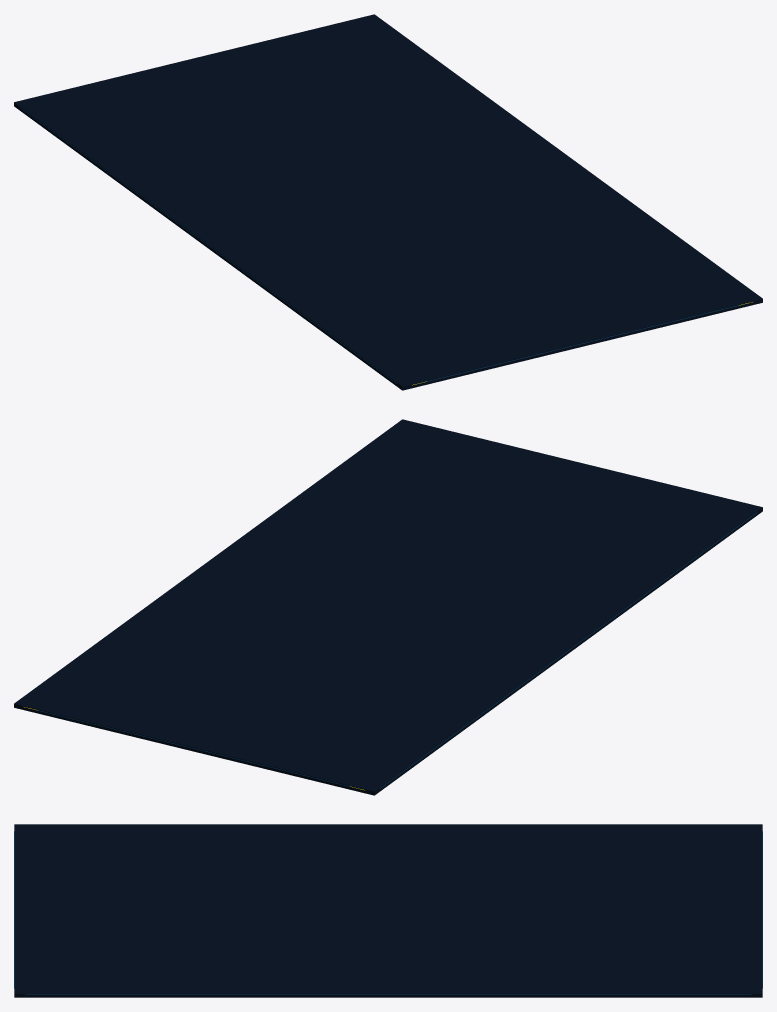
Rendered from constellation-court-v1.glb.
3 views of the same model, one above another, from view 1: azimuth 30°, elevation 25°; view 2: azimuth 150°, elevation 25°; view 3: azimuth 270°, elevation 25° (orthographic). The views are drawn at different scales.
Parts seen in each view (by area): view 1: Constellation court presentation plinth; view 2: Constellation court presentation plinth; view 3: Constellation court presentation plinth.
Part boxes in pixels (x1,y1,x2,y2): Constellation court presentation plinth: [14, 14, 762, 390]; Constellation court presentation plinth: [14, 419, 762, 795]; Constellation court presentation plinth: [14, 824, 762, 997].
Bounding box in the file's own units: 50.83 × 0.56 × 94.85.
